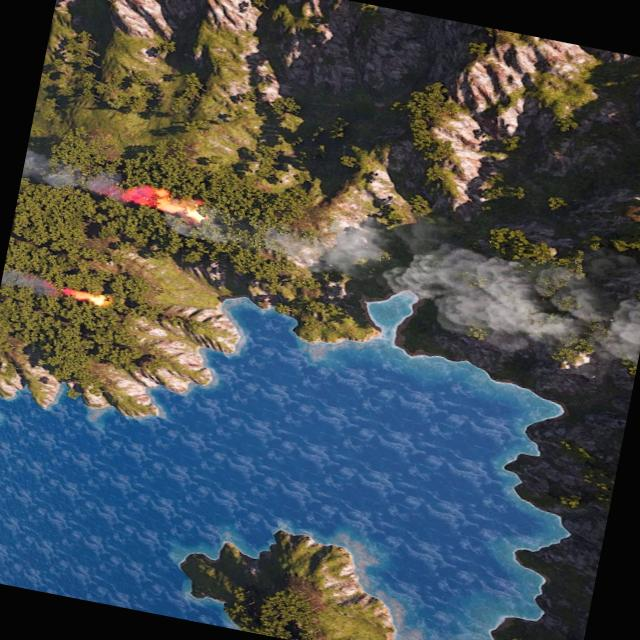fire: (127, 182, 205, 222), (64, 286, 110, 308)
smoke: (258, 202, 640, 372), (21, 145, 140, 203), (1, 265, 72, 300)
